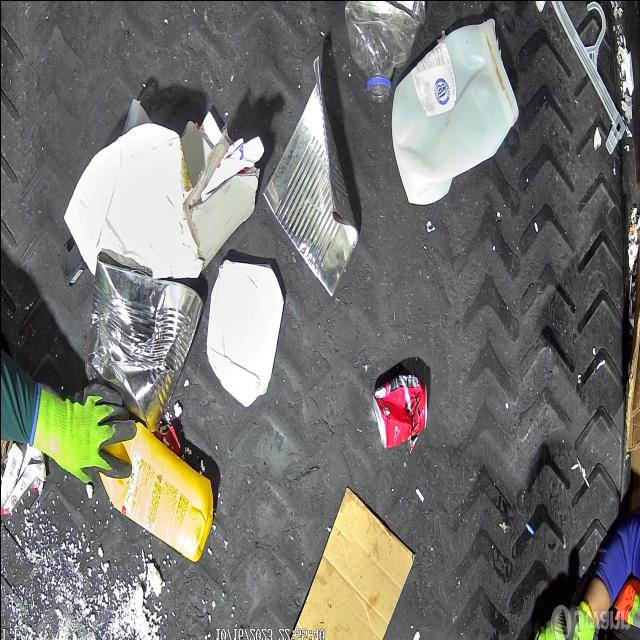can: (82, 249, 204, 434), (371, 374, 427, 451)
milk_jug: (390, 16, 518, 204)
non_white_jug: (100, 420, 214, 562)
plastic_bottle: (344, 0, 428, 102)
